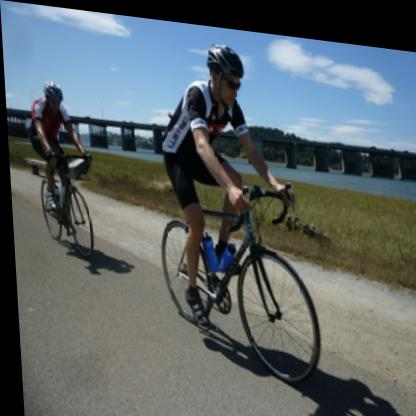With Helmet: (200, 34, 250, 106), (40, 74, 65, 114)
